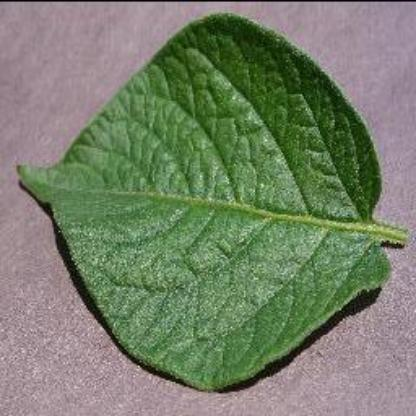Healthy-plant: (16, 8, 408, 394)
